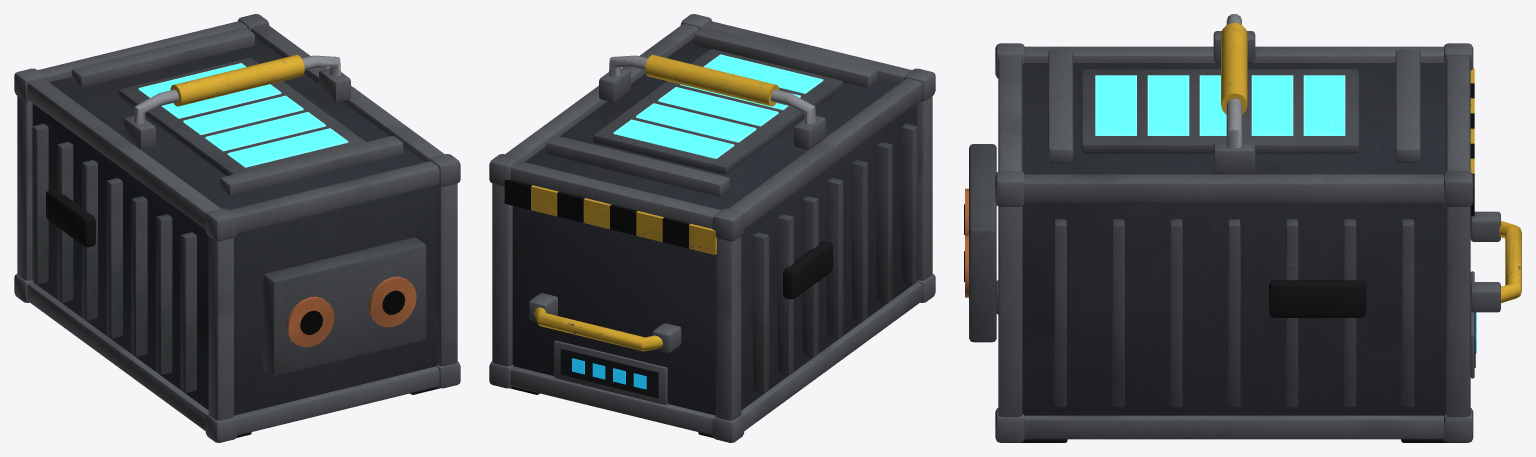
File: master_battery.glb
The picture shows the model from 3 angles, left to right: view 1: azimuth 30°, elevation 25°; view 2: azimuth 150°, elevation 25°; view 3: azimuth 270°, elevation 25°; orthographic projection. The views are drawn at different scales.
Visible parts, largest first — view 1: Case, Charge; view 2: Case, Charge; view 3: Case, Charge.
Boxes of the visible parts, x1=… form: Case: x1=14, y1=14, x2=460, y2=442; Charge: x1=140, y1=63, x2=345, y2=165; Case: x1=489, y1=14, x2=935, y2=442; Charge: x1=615, y1=55, x2=820, y2=156; Case: x1=964, y1=14, x2=1521, y2=442; Charge: x1=1096, y1=76, x2=1343, y2=133.
Bounding box in the file's own units: 0.534 × 0.5125 × 0.8029.
13 materials, 6 textured.
